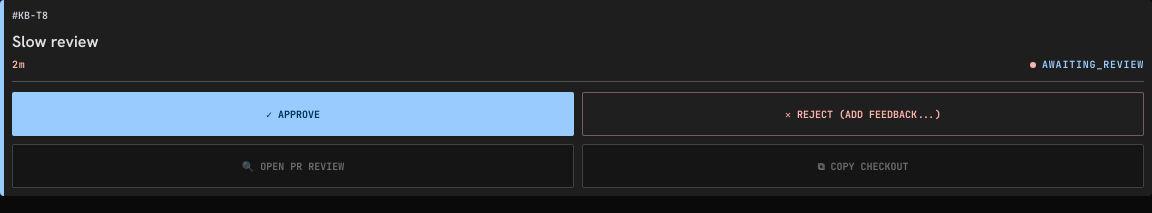
pace tooltip explains elapsed versus average on hover
Hover over the element showing "2m": coordinates (19, 65) 12,59 -> 26,71
Wait 1100 ms
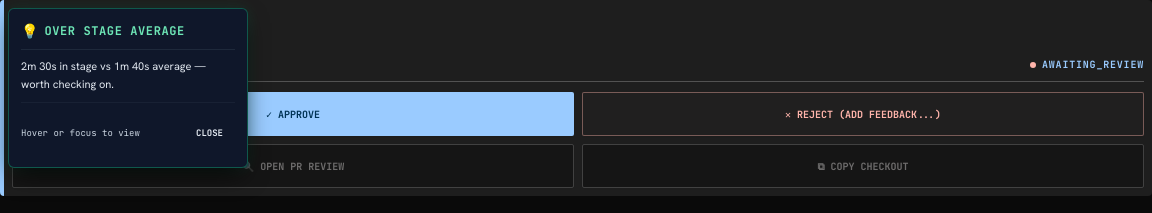
Expected: the heading "Over stage average" is shown, 44,23 -> 185,39
Expected: the text "2m 30s in stage vs 1m 40s average — worth checking on." is shown, 21,58 -> 235,94
